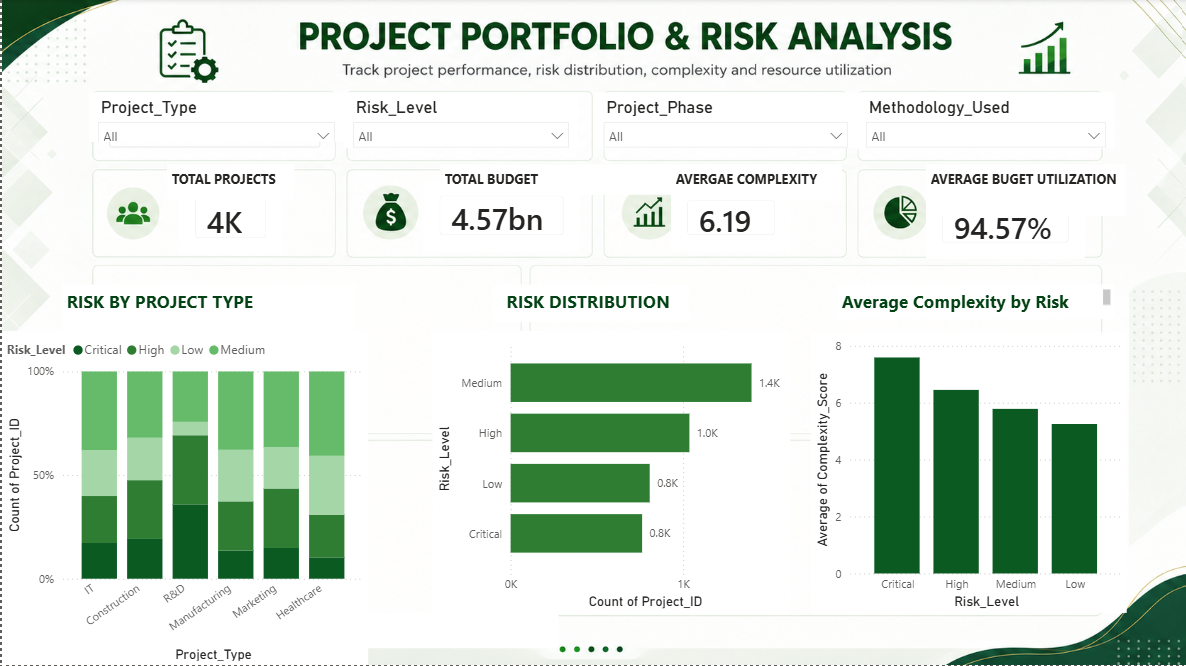

This screenshot's page, from the dashboard's own definition file:
{"tool":"powerbi","page":{"name":"Page 1","canvas":[1280,720],"ordinal":0},"visuals":[{"type":"image","box":[0,0,1280.8,720.6],"z":0},{"type":"cardVisual","fields":{"Data":["Count(project_risk_raw_dataset.Project_ID)"]},"box":[191.1,199.2,111.7,77.7],"z":1000},{"type":"cardVisual","fields":{"Data":["Sum(project_risk_raw_dataset.Project_Budget_USD)"]},"box":[455,195.9,168.4,77.7],"z":2000},{"type":"cardVisual","fields":{"Data":["Avg(project_risk_raw_dataset.Budget_Utilization_Rate)"]},"box":[997.4,208.9,171.6,72.9],"z":3000},{"type":"cardVisual","fields":{"Data":["Avg(project_risk_raw_dataset.Complexity_Score)"]},"box":[722.2,200.8,129.5,72.9],"z":4000},{"type":"slicer","fields":{"Values":["project_risk_raw_dataset.Project_Type"]},"box":[93.9,102,275.3,53.4],"z":5000},{"type":"slicer","fields":{"Values":["project_risk_raw_dataset.Risk_Level"]},"box":[369.2,102,252.6,59.9],"z":6000},{"type":"slicer","fields":{"Values":["project_risk_raw_dataset.Project_Phase"]},"box":[639.6,102,283.4,59.9],"z":7000},{"type":"slicer","fields":{"Values":["project_risk_raw_dataset.Methodology_Used"]},"box":[923,102,278.4,60.4],"z":8000},{"type":"textbox","box":[529.5,309.3,212.1,40.5],"z":9000},{"type":"barChart","fields":{"Category":["project_risk_raw_dataset.Risk_Level"],"Y":["CountNonNull(project_risk_raw_dataset.Project_ID)"]},"box":[464.7,359.5,387,304.4],"z":10000},{"type":"hundredPercentStackedColumnChart","fields":{"Category":["project_risk_raw_dataset.Project_Type"],"Y":["CountNonNull(project_risk_raw_dataset.Project_ID)"],"Series":["project_risk_raw_dataset.Risk_Level"]},"box":[0,359.5,395.1,361.1],"z":11000},{"type":"textbox","box":[64.8,309.3,317.4,51.8],"z":12000},{"type":"clusteredColumnChart","fields":{"Category":["project_risk_raw_dataset.Risk_Level"],"Y":["Avg(project_risk_raw_dataset.Complexity_Score)"]},"box":[872.8,361.1,341.7,302.8],"z":13000},{"type":"textbox","box":[901.9,309.3,299.6,37.2],"z":14000},{"type":"textbox","box":[343.3,663.9,257.5,37.2],"z":15000},{"type":"textbox","box":[178.1,179.7,137.6,38.9],"z":16000},{"type":"textbox","box":[472.8,179.7,299.6,32.4],"z":17000},{"type":"textbox","box":[722.2,179.7,184.6,38.9],"z":18000},{"type":"textbox","box":[997.4,179.7,215.4,55.1],"z":19000}]}

Visuals, with their boxes in screenshot pixels (x1, y1, x2, y2), scaled from the page's 1280x720 canvas onto the 1186x666 screenshot:
image: bbox=(0, 0, 1185, 665)
cardVisual - Count(project_risk_raw_dataset.Project_ID): bbox=(177, 184, 281, 256)
cardVisual - Sum(project_risk_raw_dataset.Project_Budget_USD): bbox=(422, 181, 578, 253)
cardVisual - Avg(project_risk_raw_dataset.Budget_Utilization_Rate): bbox=(924, 193, 1083, 261)
cardVisual - Avg(project_risk_raw_dataset.Complexity_Score): bbox=(669, 186, 789, 253)
slicer - project_risk_raw_dataset.Project_Type: bbox=(87, 94, 342, 144)
slicer - project_risk_raw_dataset.Risk_Level: bbox=(342, 94, 576, 150)
slicer - project_risk_raw_dataset.Project_Phase: bbox=(593, 94, 855, 150)
slicer - project_risk_raw_dataset.Methodology_Used: bbox=(855, 94, 1113, 150)
textbox: bbox=(491, 286, 687, 324)
barChart - project_risk_raw_dataset.Risk_Level x CountNonNull(project_risk_raw_dataset.Project_ID): bbox=(431, 333, 789, 614)
hundredPercentStackedColumnChart - project_risk_raw_dataset.Project_Type x CountNonNull(project_risk_raw_dataset.Project_ID): bbox=(0, 333, 366, 665)
textbox: bbox=(60, 286, 354, 334)
clusteredColumnChart - project_risk_raw_dataset.Risk_Level x Avg(project_risk_raw_dataset.Complexity_Score): bbox=(809, 334, 1125, 614)
textbox: bbox=(836, 286, 1113, 321)
textbox: bbox=(318, 614, 557, 649)
textbox: bbox=(165, 166, 293, 202)
textbox: bbox=(438, 166, 716, 196)
textbox: bbox=(669, 166, 840, 202)
textbox: bbox=(924, 166, 1124, 217)
